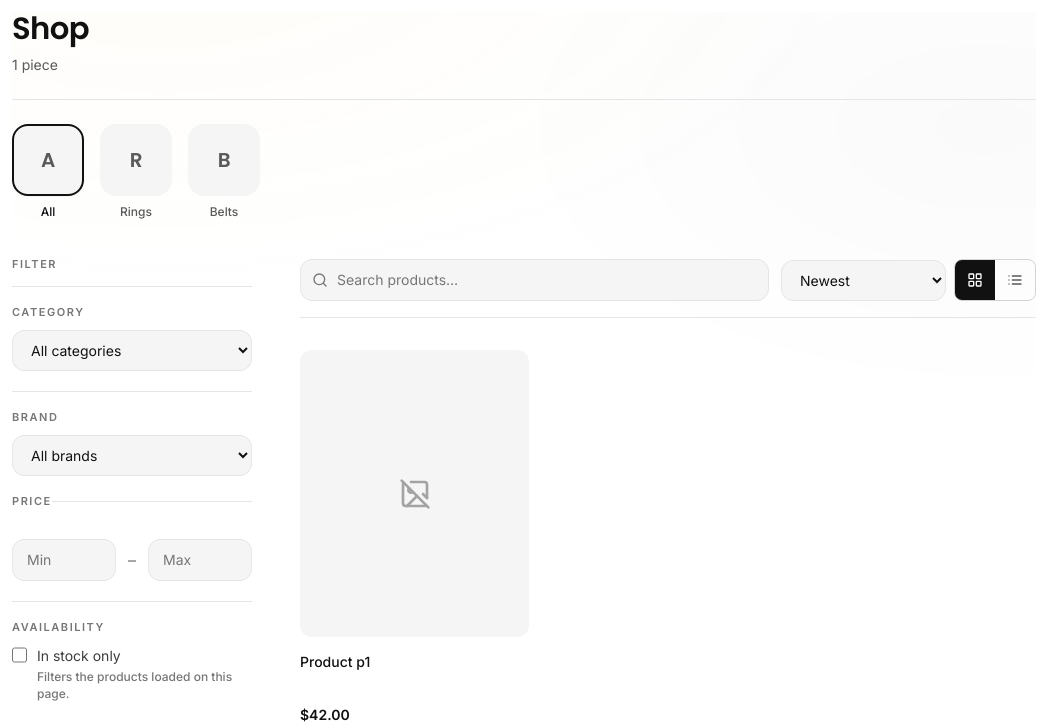
Test: Products (PLP) › renders no banner for a category that has none
The width and height of the screenshot is (1048, 728).
Expected: the link "Product p1" is shown, [300,653,370,670]
Click the button "R Rings" at (136, 172), box [100,124,172,220]
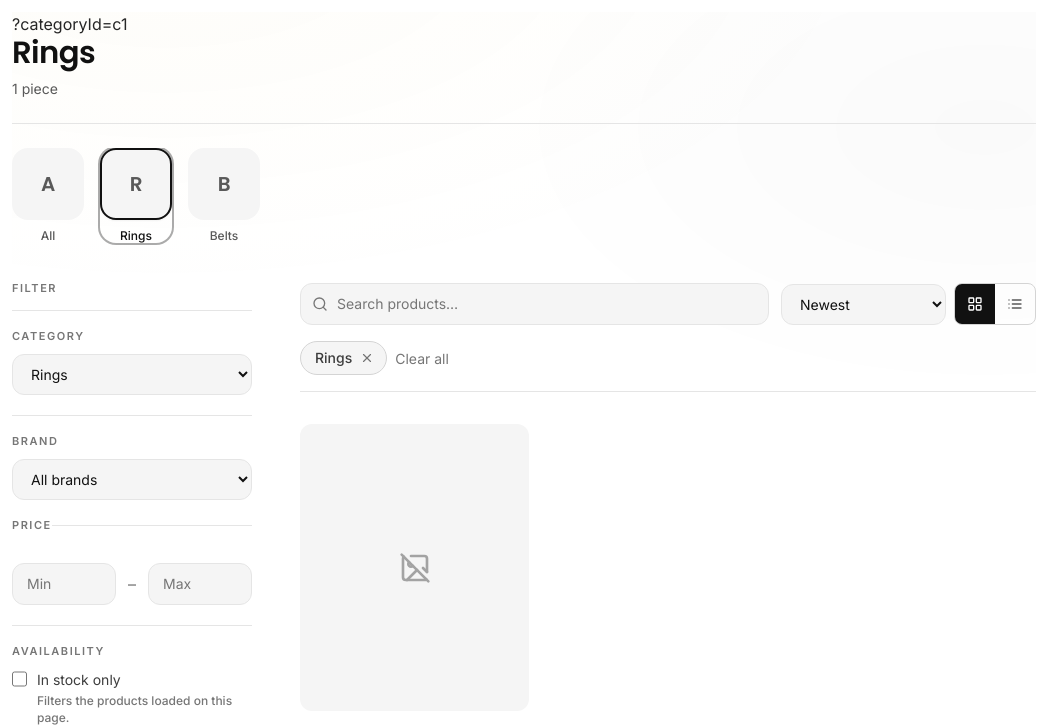
Result: the heading "Rings" is shown at [12,31,95,74]
